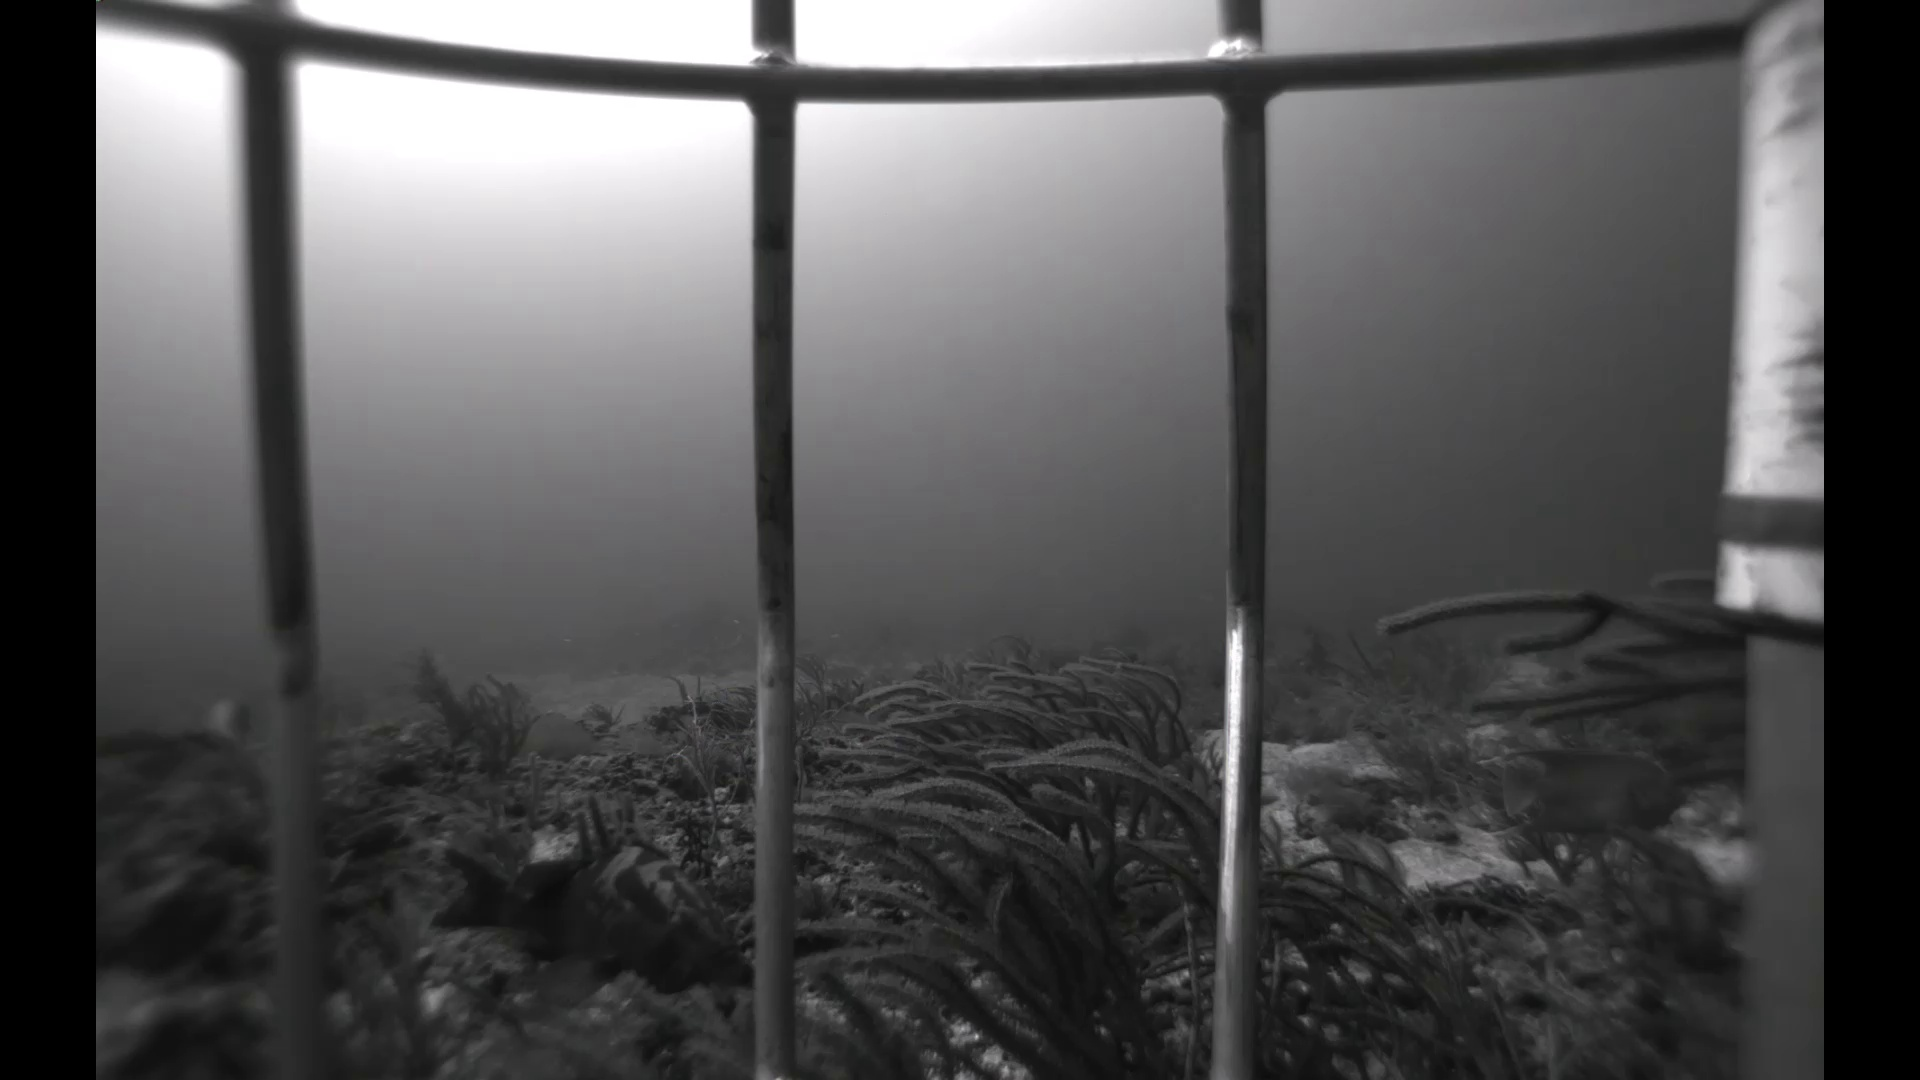CHAETODONOCELLATUS-170260307: (359, 878, 439, 965), (196, 690, 261, 750)
EPINEPHELUSMORIO-170021211: (418, 822, 746, 1004)
HOLACANTHUSBERMUDENSIS-170290102: (1465, 732, 1702, 855)
HYPOPLECTRUS-170021500: (1706, 812, 1749, 862)
IOGLOSSUS-170550800: (556, 632, 582, 650), (1192, 589, 1216, 607), (709, 632, 725, 646), (825, 629, 843, 642), (733, 633, 745, 645), (729, 616, 741, 626)
PAGRUSPAGRUS-170212302: (600, 592, 654, 622)
POMACENTRIDAE-170270000: (512, 725, 527, 740)
